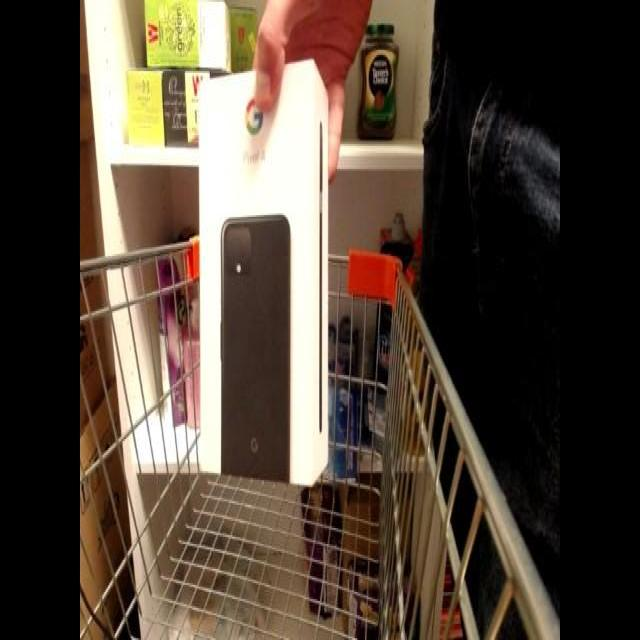Pixel 4: (185, 52, 348, 494)
